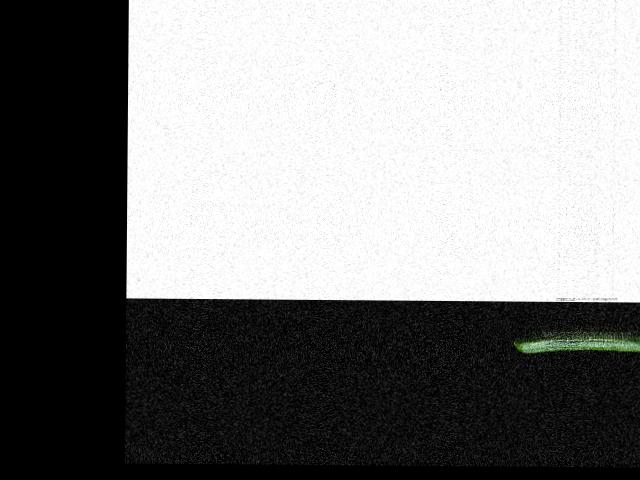cucumber: (512, 330, 640, 353)
